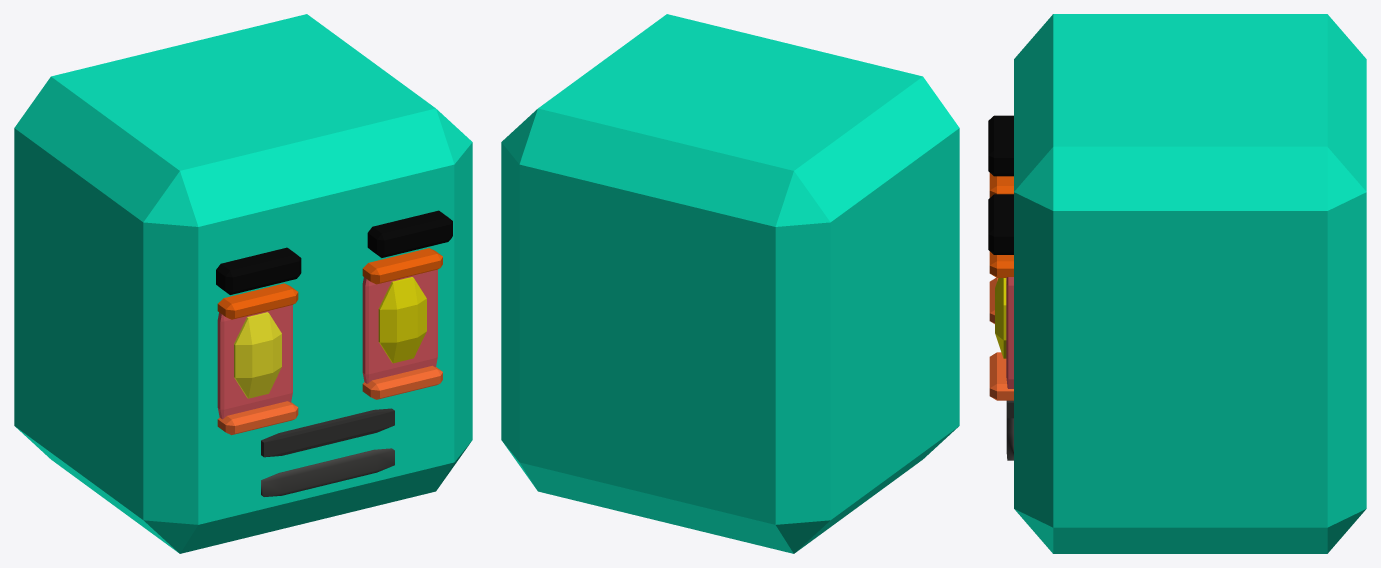
File: phon.glb
3 views of the same model, side by side, from view 1: azimuth 30°, elevation 25°; view 2: azimuth 150°, elevation 25°; view 3: azimuth 270°, elevation 25° (orthographic). The views are drawn at different scales.
Parts seen in each view (by area): view 1: head, Cube.002, EyeBrown, lip_up, eye, eyes, lip_up.001, mouth, mouth'; view 2: head; view 3: head, EyeBrown, lip_up.001, lip_up, Cube.002, eye.
Part boxes in pixels (x1,y1,x2,y2): head: [14, 14, 472, 553]; Cube.002: [217, 269, 437, 419]; EyeBrown: [216, 210, 452, 294]; lip_up: [217, 248, 442, 319]; eye: [378, 277, 426, 363]; eyes: [234, 312, 281, 398]; lip_up.001: [217, 365, 442, 435]; mouth: [261, 408, 394, 457]; mouth': [261, 448, 394, 496]; head: [501, 14, 959, 553]; head: [1014, 14, 1366, 553]; EyeBrown: [988, 115, 1013, 254]; lip_up.001: [989, 277, 1013, 400]; lip_up: [989, 173, 1013, 277]; Cube.002: [1006, 277, 1013, 388]; eye: [995, 278, 1006, 358].
Size of the model in its own units: 0.7804 by 0.8675 by 0.7307.
